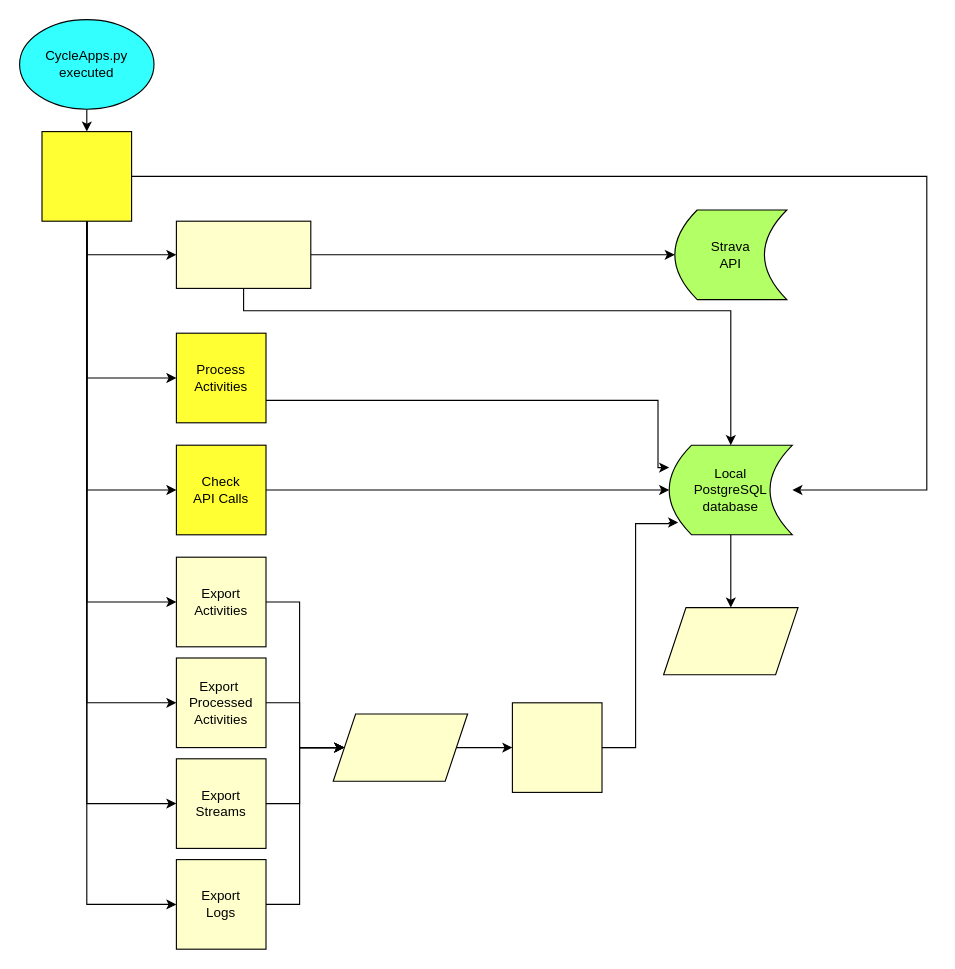
Image size: 955x969. Some labels were removed from this diagram. The shapes that lost their labels are listed below. From the top down, each one's box as (x1, y1, x2, y2) in pixels, then its label:
(41, 130, 132, 221): Connect to DB
(175, 220, 311, 288): Update Entire DB with API
(662, 606, 798, 675): Saves CSV with queried data
(332, 713, 468, 781): User passes Start & End Date
(511, 702, 602, 792): Calls DB Function
